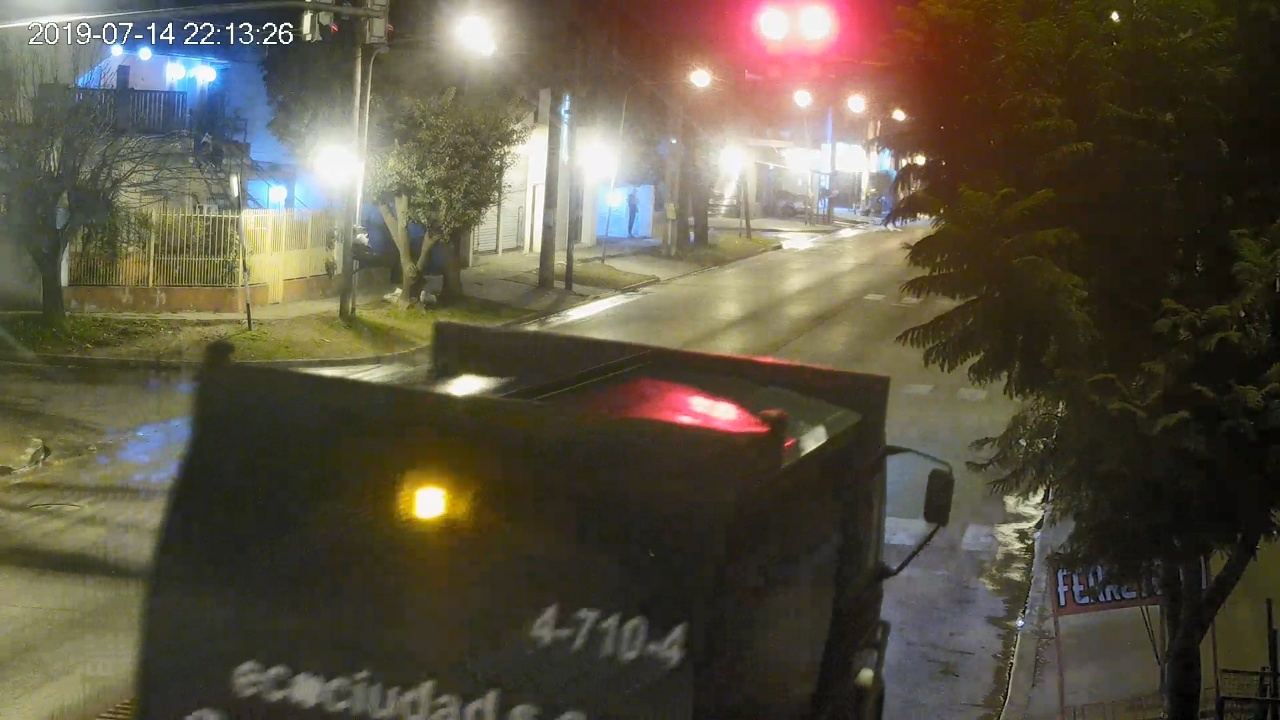traffic light: (802, 8, 825, 79), (764, 9, 786, 77)
truck: (135, 323, 955, 720)
